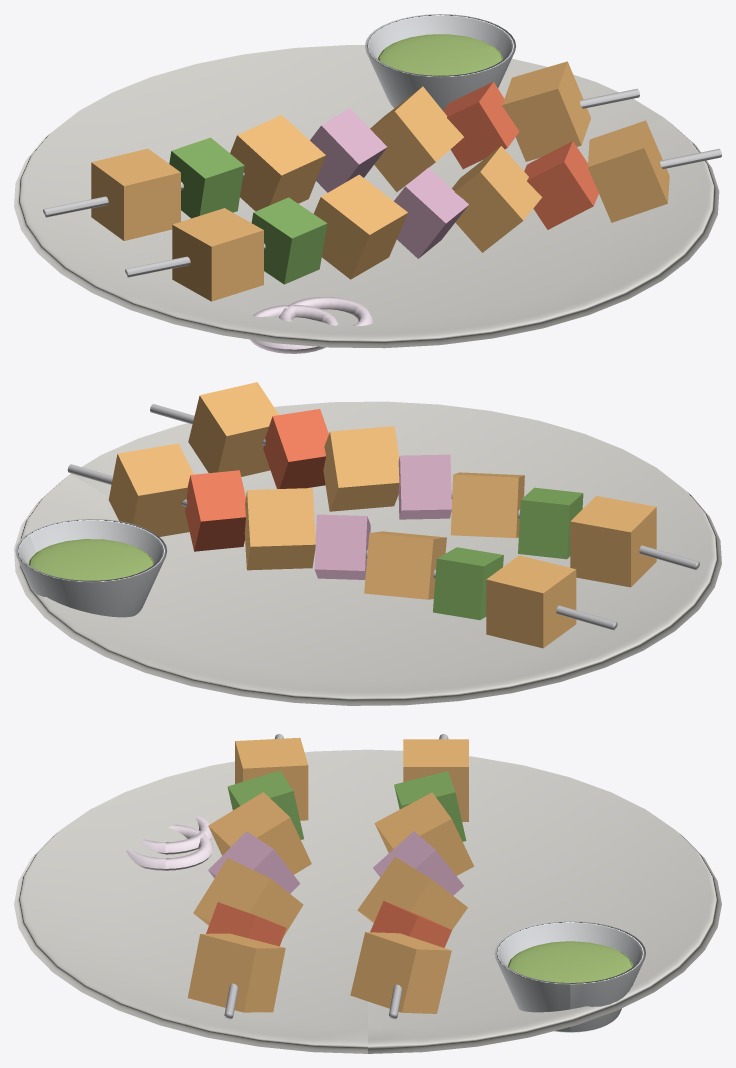
Rendered from paneer-tikka.glb.
3 views of the same model, one above another, from view 1: azimuth 30°, elevation 25°; view 2: azimuth 150°, elevation 25°; view 3: azimuth 270°, elevation 25° (orthographic).
Parts seen in each view (by area): view 1: paneer-tikka; view 2: paneer-tikka; view 3: paneer-tikka.
Part boxes in pixels (x1=…): paneer-tikka: x1=14, y1=14, x2=721, y2=353; paneer-tikka: x1=14, y1=382, x2=721, y2=705; paneer-tikka: x1=14, y1=734, x2=721, y2=1053.
Size of the model in its own units: 0.28 by 0.0437 by 0.28.
